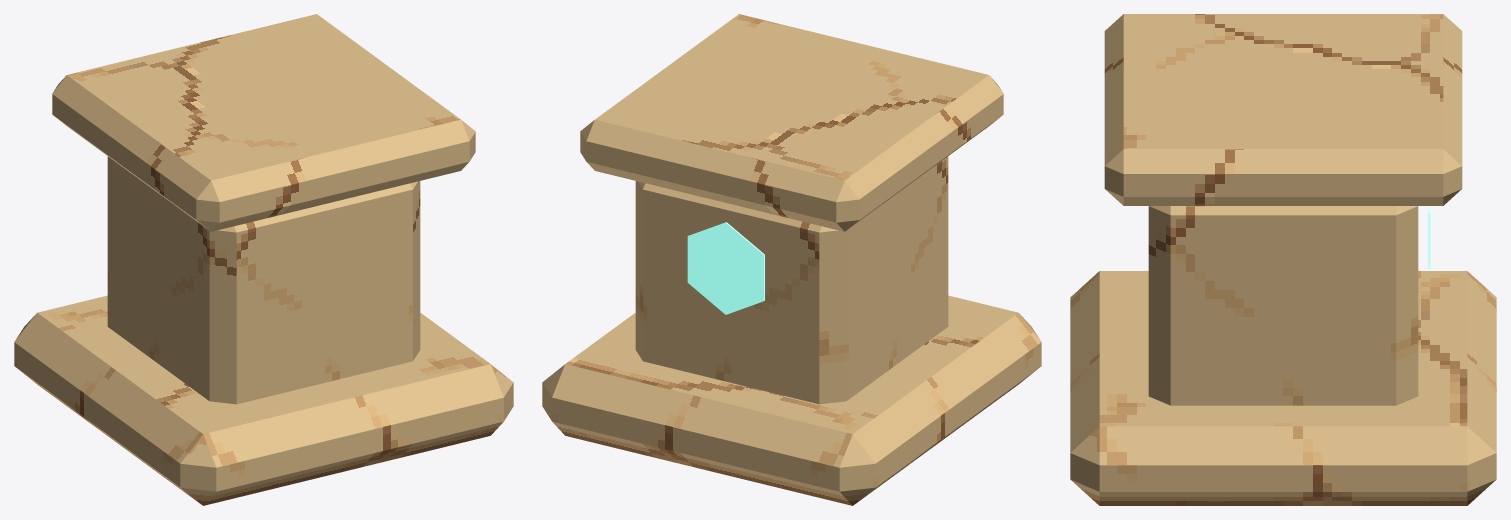
Rendered from totem_dominio.glb.
3 renders of one model, left to right at view 1: azimuth 30°, elevation 25°; view 2: azimuth 150°, elevation 25°; view 3: azimuth 270°, elevation 25°, orthographic. The views are drawn at different scales.
Visible parts, largest first — view 1: deserto_totem_dominio; view 2: deserto_totem_dominio; view 3: deserto_totem_dominio.
Part boxes in pixels (left/top/right/bottom): deserto_totem_dominio: left=14, top=14, right=513, bottom=505; deserto_totem_dominio: left=542, top=14, right=1041, bottom=505; deserto_totem_dominio: left=1070, top=14, right=1496, bottom=505.
Size of the model in its own units: 0.68 by 0.61 by 0.68.
Materials: 2 (1 with a texture image).
